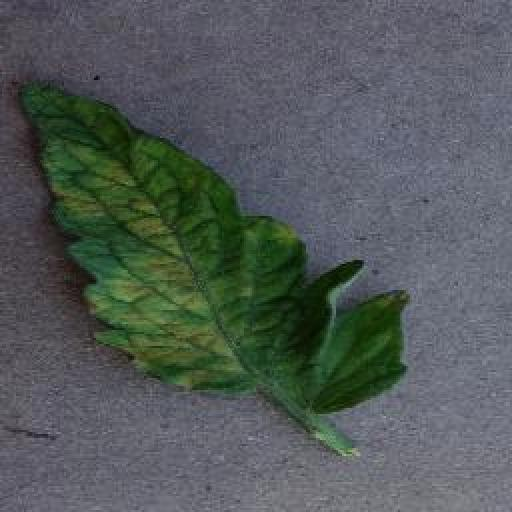disease_tomato: (12, 72, 414, 414)
